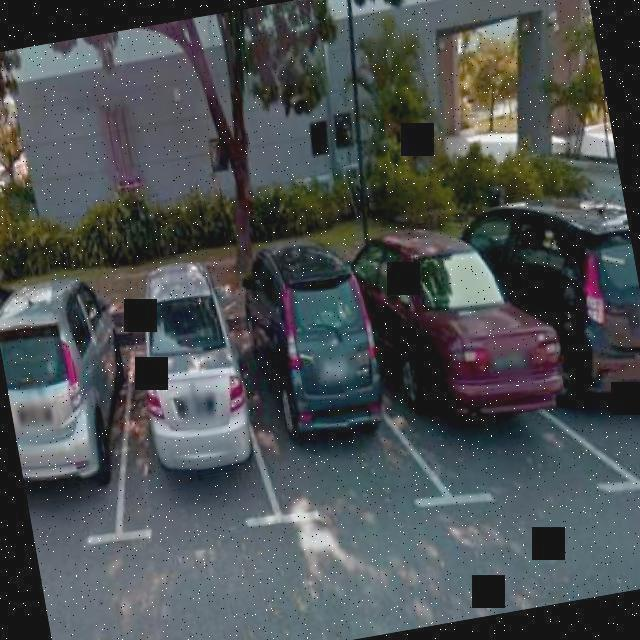car: (342, 166, 584, 460), (236, 206, 414, 478), (456, 154, 640, 417), (117, 239, 260, 480), (0, 252, 137, 488)
